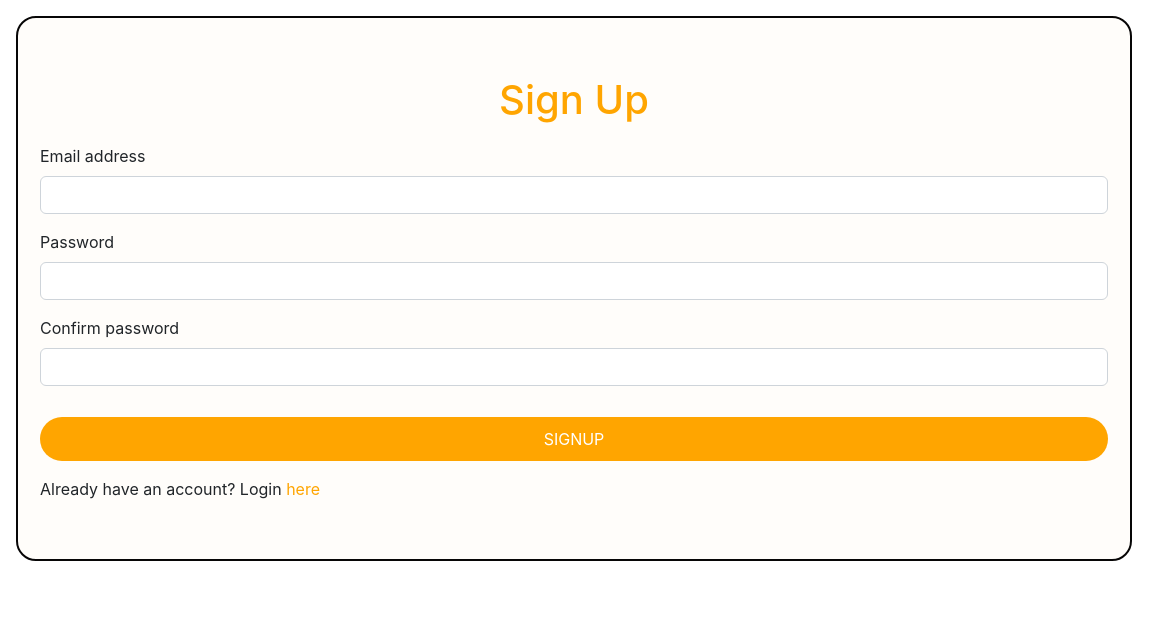
it: App › Error handling › should show email error message on invalid email
Expected: the text "the email you input is invalid" is not shown
Type "invalid.com" into the field labelled "Email address" at (574, 195), box [40,176,1108,214]
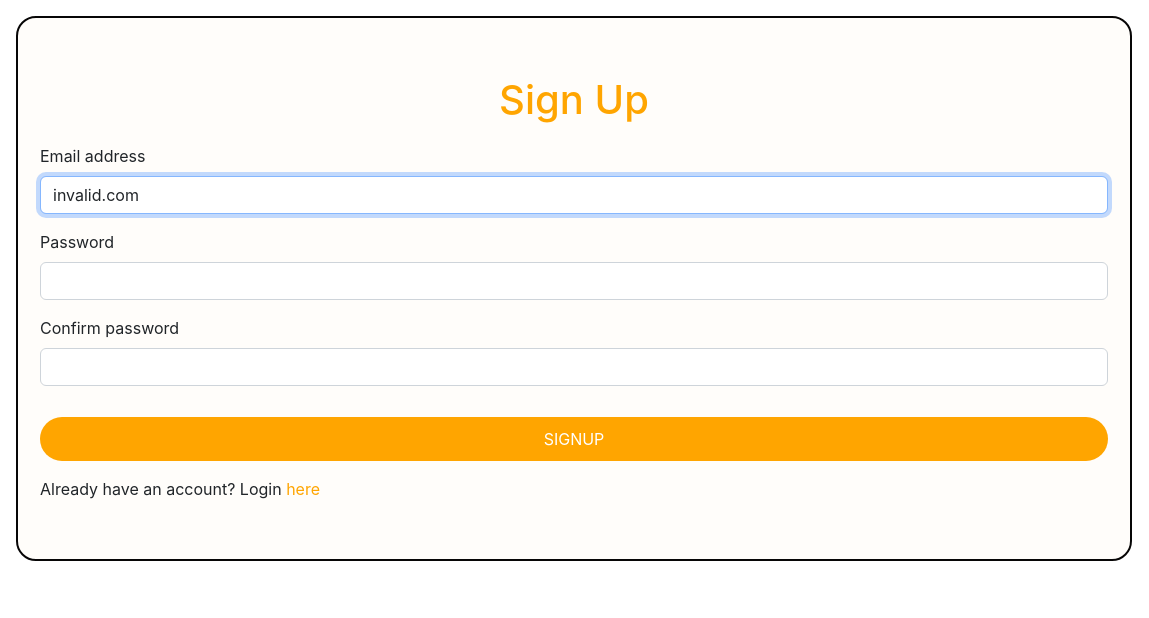
Click the button "Signup" at (574, 439), box [40,417,1108,461]
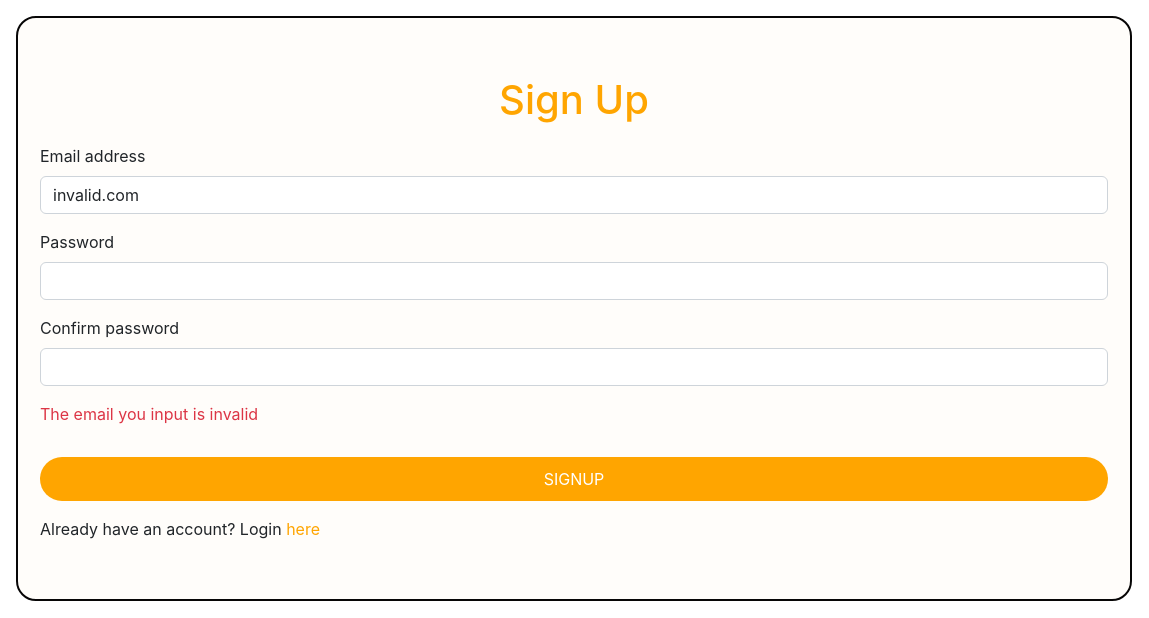
Now the text "The email you input is invalid" is shown, box [40,404,258,424]
